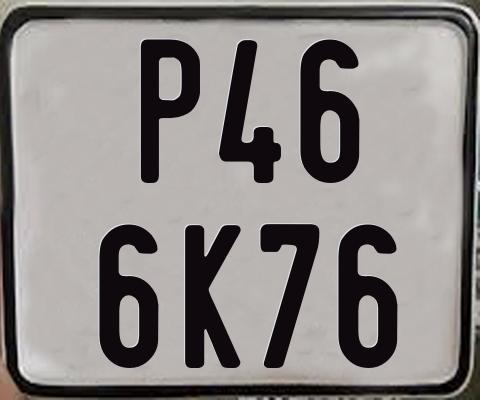4: (216, 40, 279, 183)
6: (336, 224, 402, 370), (299, 39, 362, 183), (98, 221, 158, 367)
7: (257, 224, 319, 374)
K: (185, 224, 244, 368)
P: (141, 36, 204, 180)
